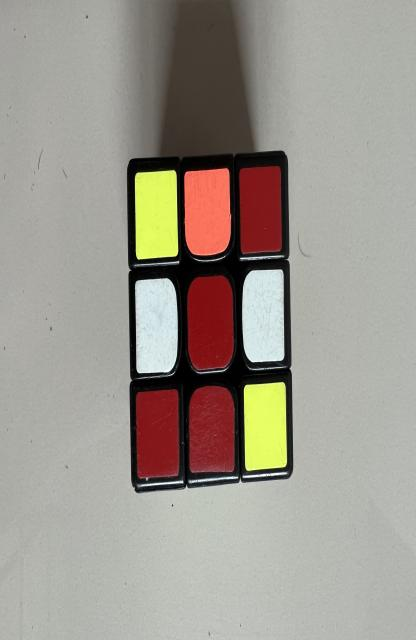Orange: (184, 168, 231, 257)
Red: (187, 275, 234, 372), (189, 385, 235, 473), (136, 388, 180, 478), (239, 167, 282, 253)
White: (135, 278, 178, 373), (242, 270, 284, 363)
Yellow: (135, 170, 178, 260), (244, 382, 287, 472)
